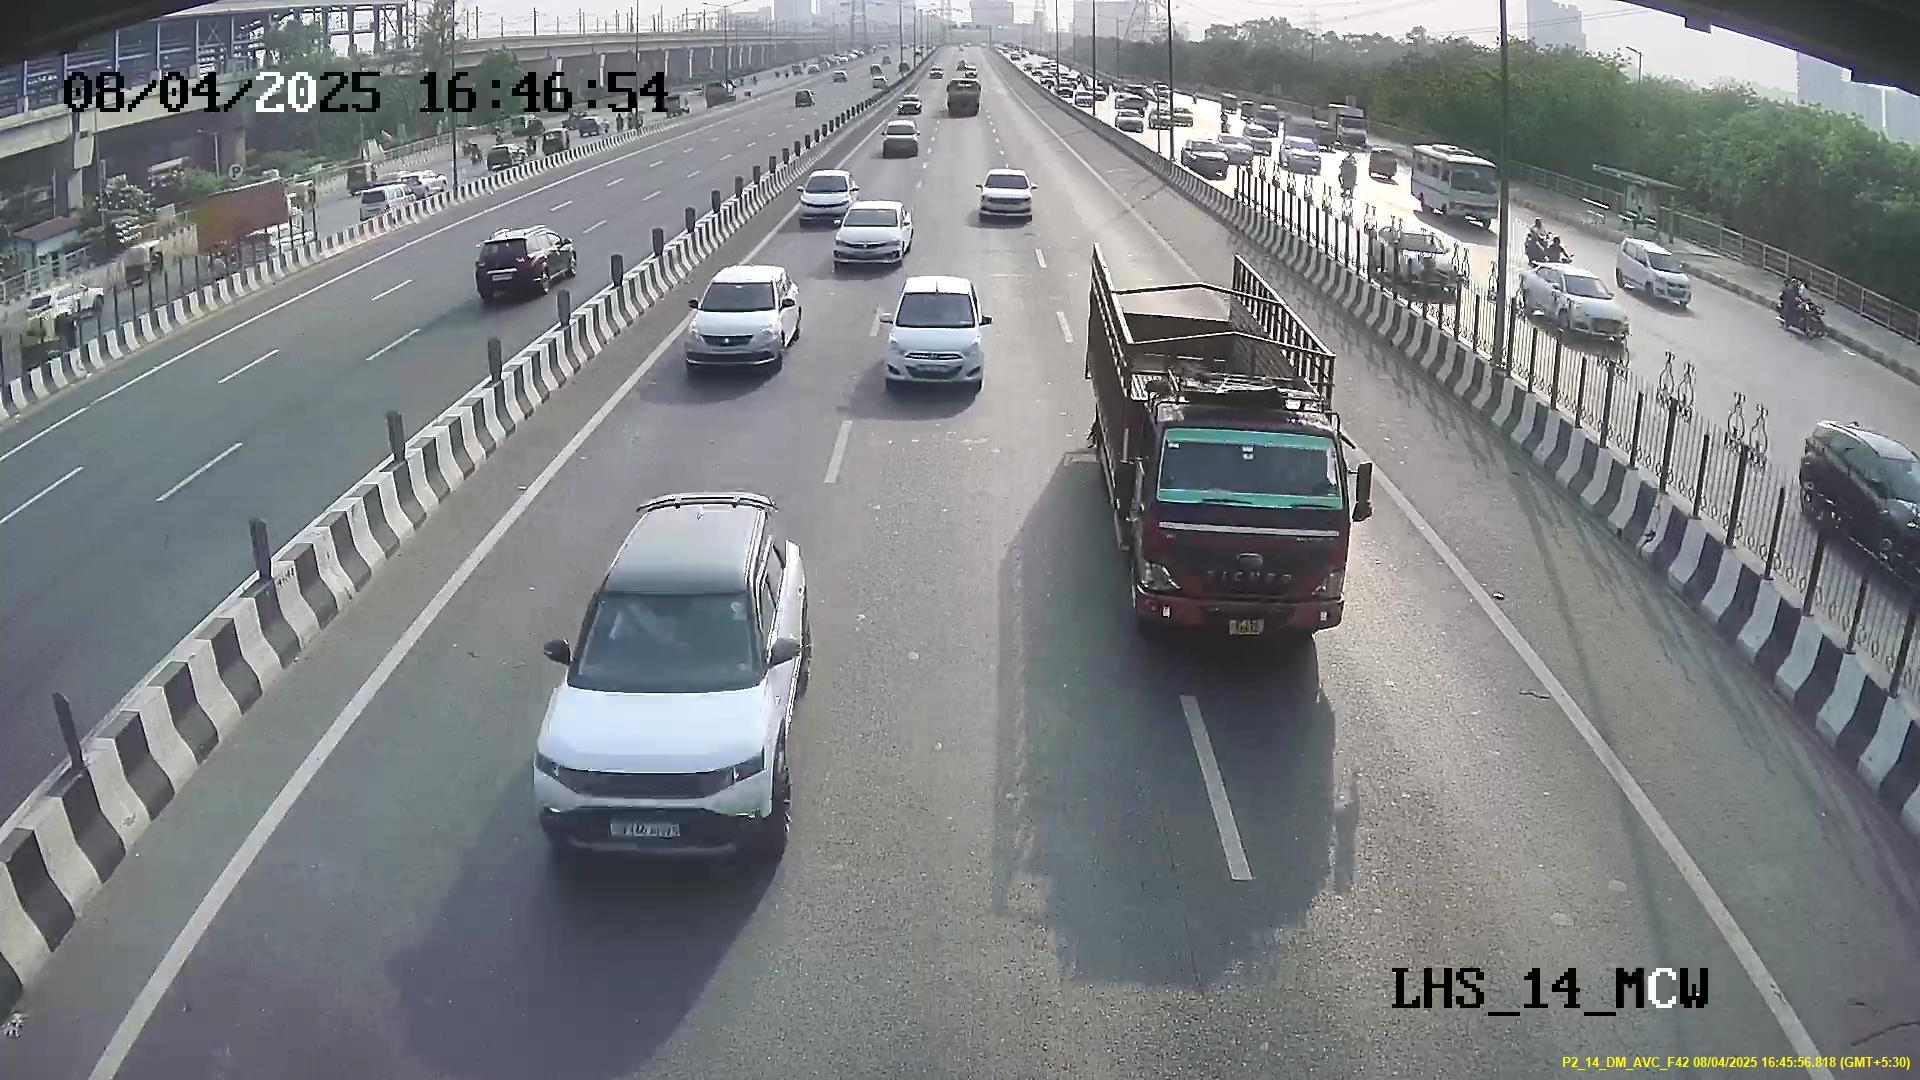car: (534, 555, 796, 862), (682, 262, 800, 378), (878, 285, 988, 394)
lcv: (1138, 411, 1353, 636)
